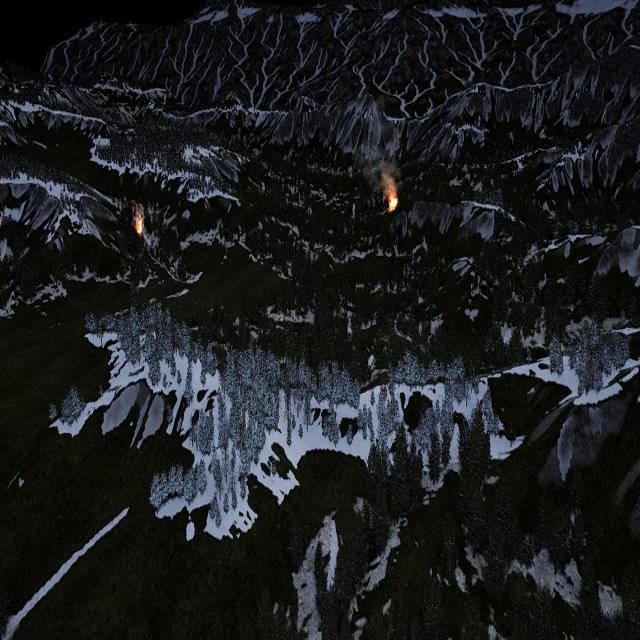fire: (134, 209, 144, 236), (388, 192, 398, 212)
smoke: (356, 129, 398, 191)
